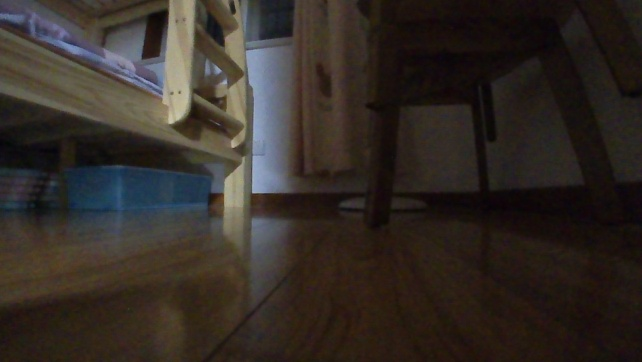bed1: (0, 0, 258, 210)
